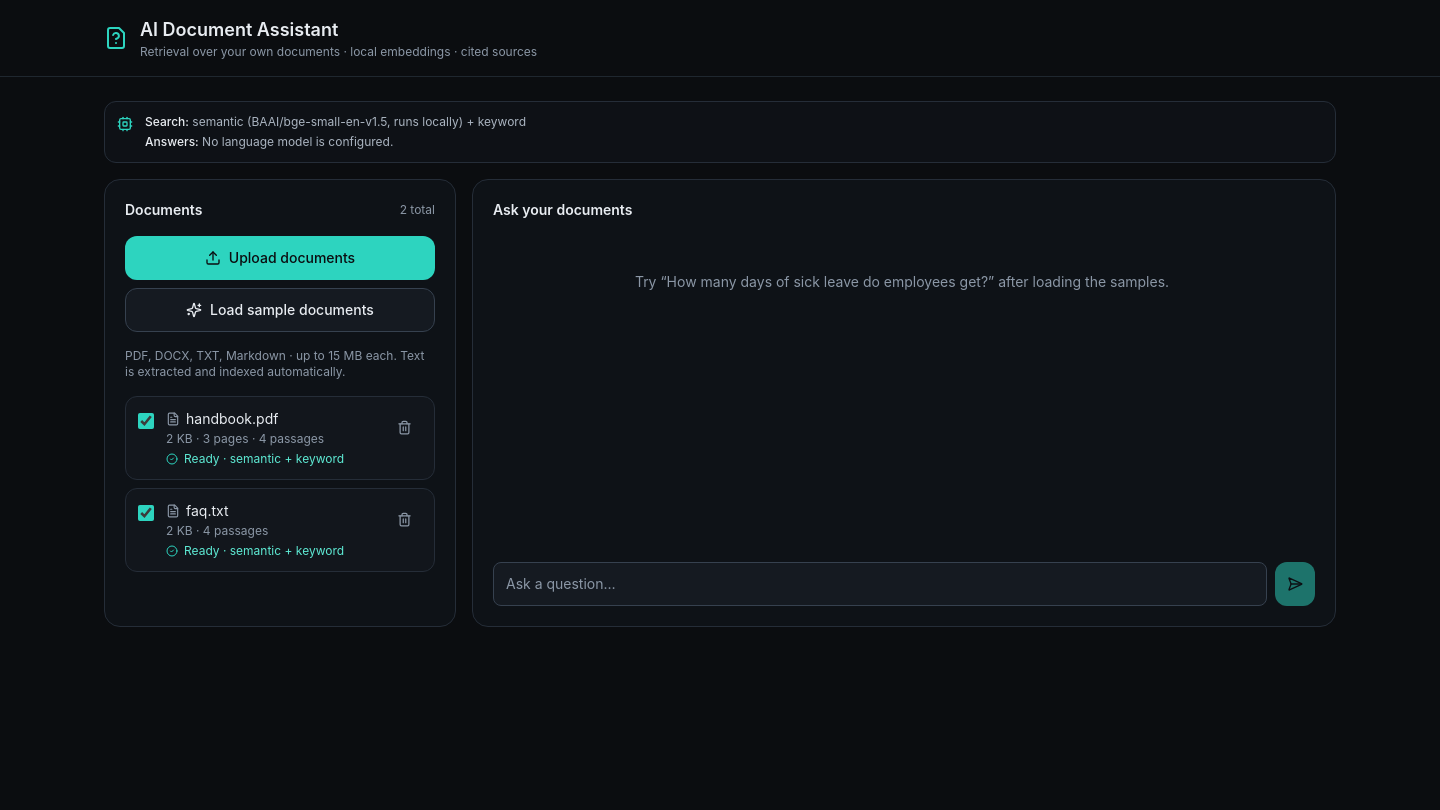
Scenario: scopes questions to selected documents and removes documents
Later steps or results of the test are not shown.
Expected: the text "faq.txt" is shown, [186, 501, 228, 521]
Click the checkbox named "Include faq.txt in questions": {"x": 146, "y": 513} [138, 505, 154, 521]
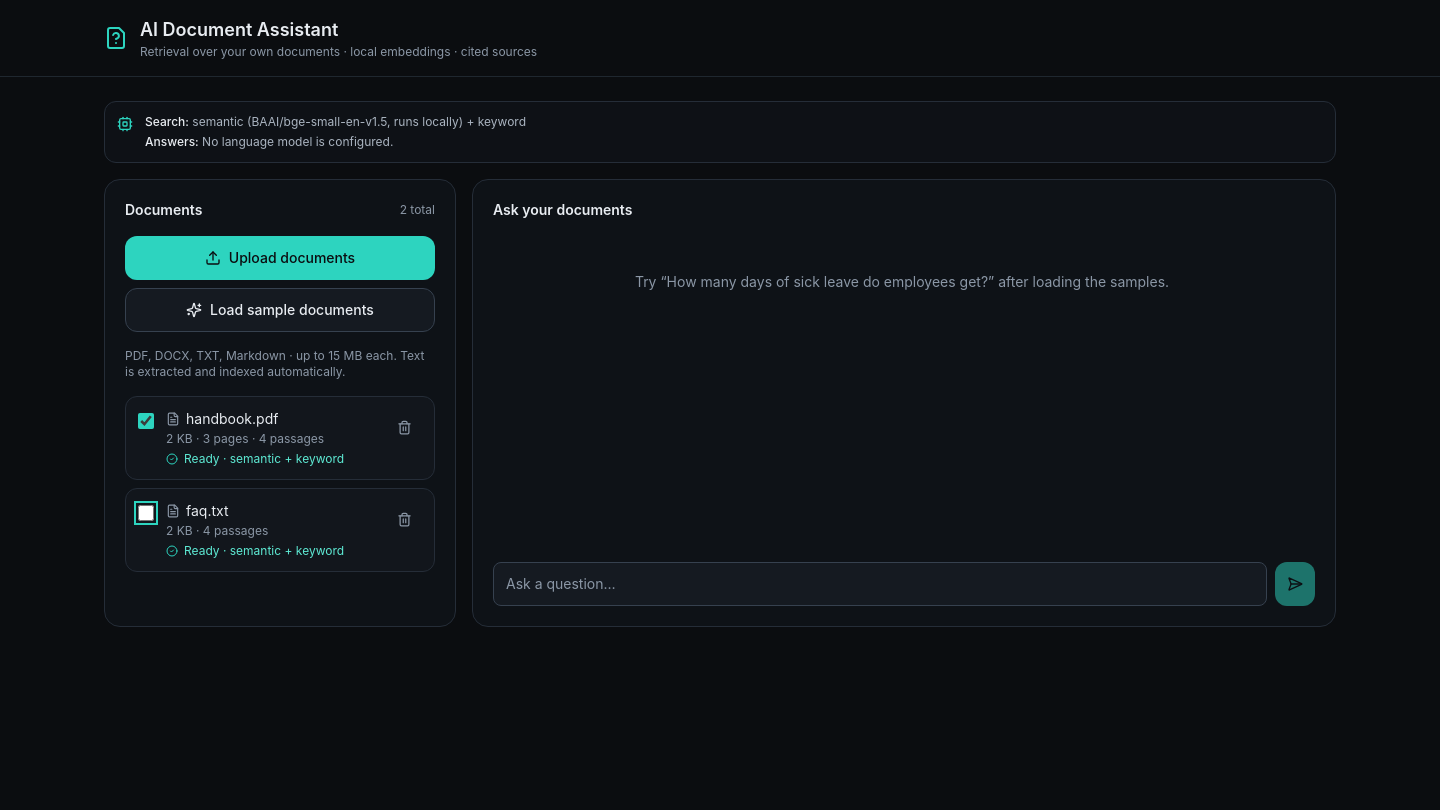
In the field labelled "question": {"x": 880, "y": 584} [493, 562, 1267, 606], type "leave policy"
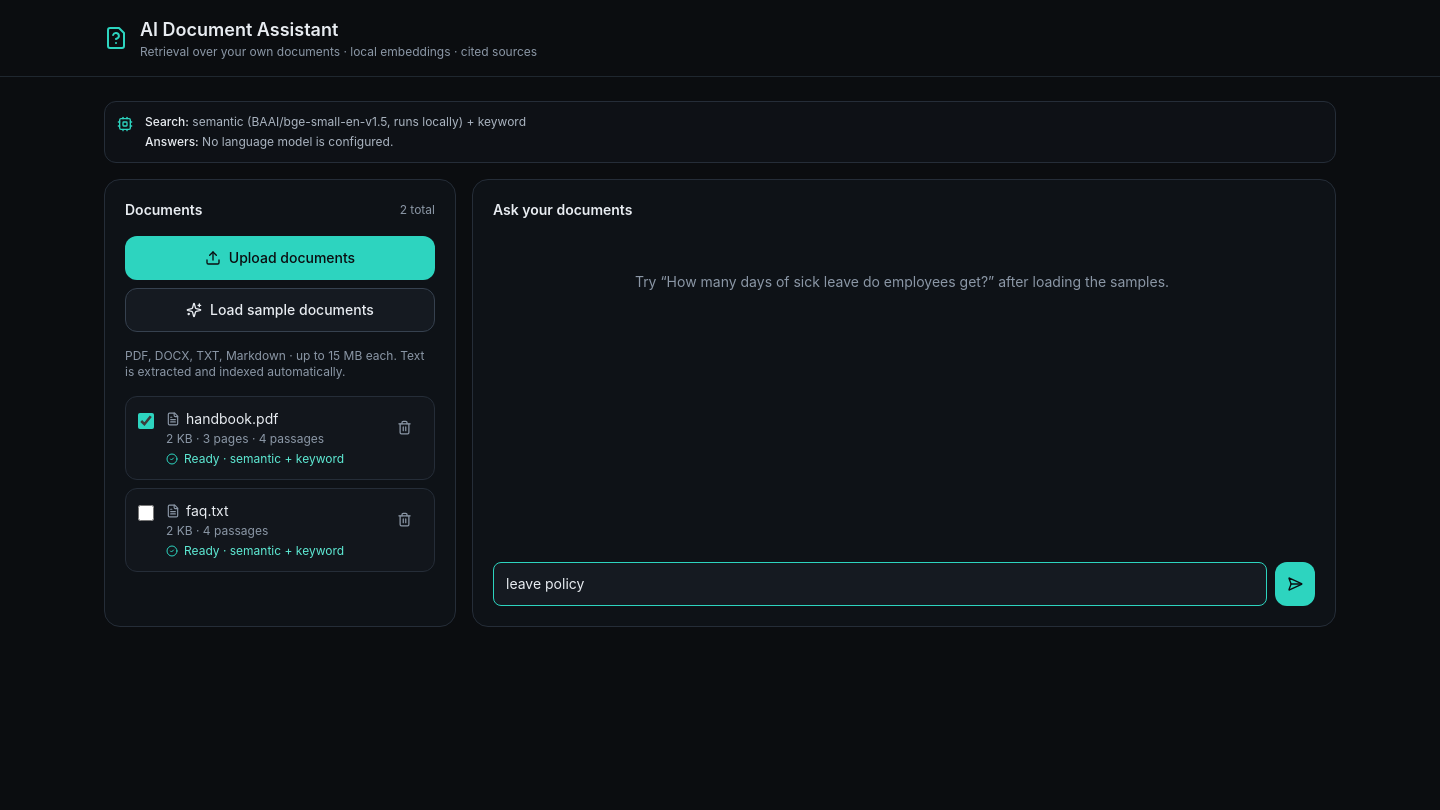
Click the button named "Ask": {"x": 1295, "y": 584} [1275, 562, 1315, 606]
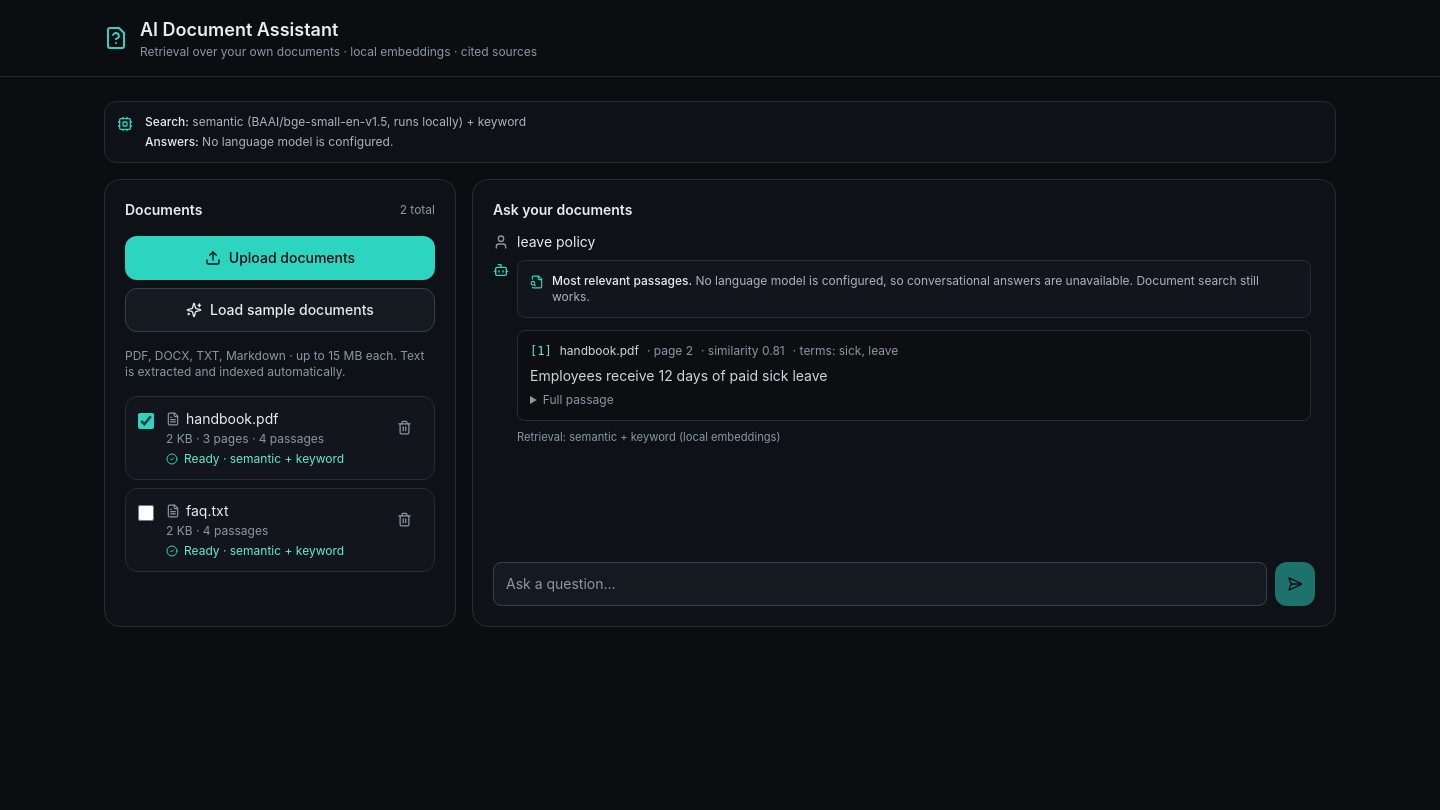
Now the list named "Sources" is shown, box [517, 330, 1311, 421]
